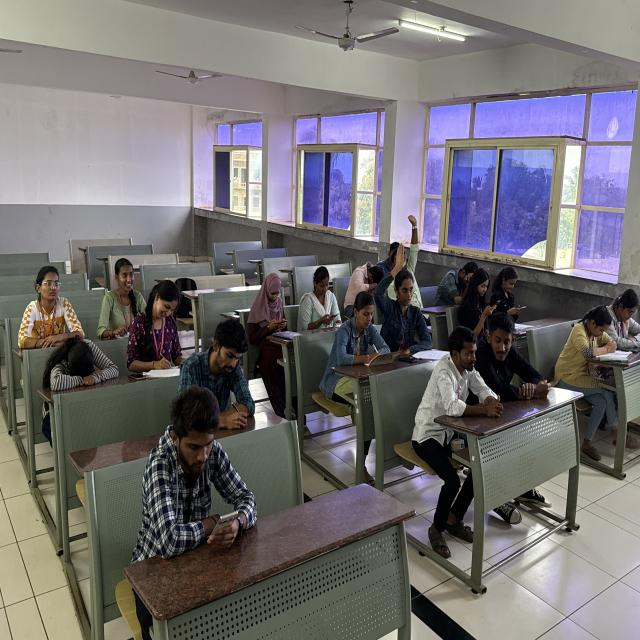Hand Rising: (379, 242, 431, 350), (390, 213, 430, 310)
Reading: (564, 306, 634, 371), (608, 275, 640, 362)
Sleeping: (38, 332, 127, 395), (346, 260, 386, 296)
Using Phone: (138, 384, 260, 550), (249, 273, 290, 346), (299, 266, 342, 330), (458, 266, 501, 326), (491, 264, 527, 323)
Writing: (190, 319, 266, 432), (123, 278, 188, 386), (334, 289, 390, 371)
